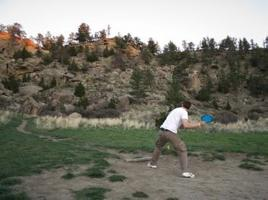person: (147, 101, 206, 179)
